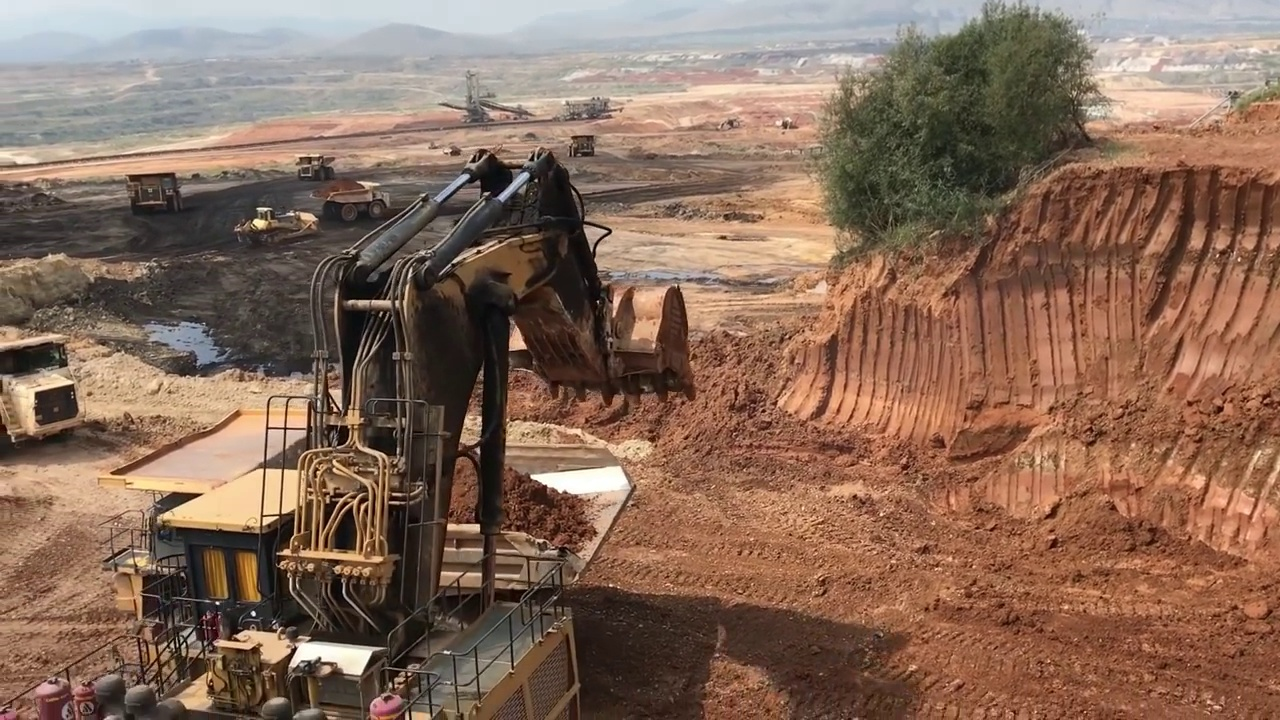dumper: (312, 178, 390, 221), (125, 169, 185, 209), (568, 134, 594, 156)
excavator: (3, 150, 696, 720)
